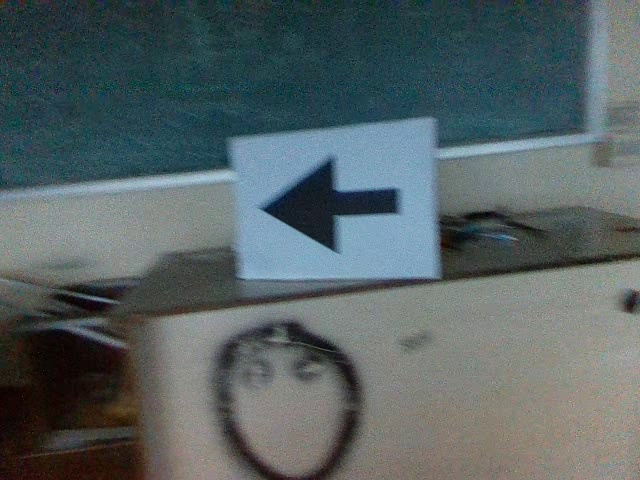Left: (255, 148, 408, 265)
